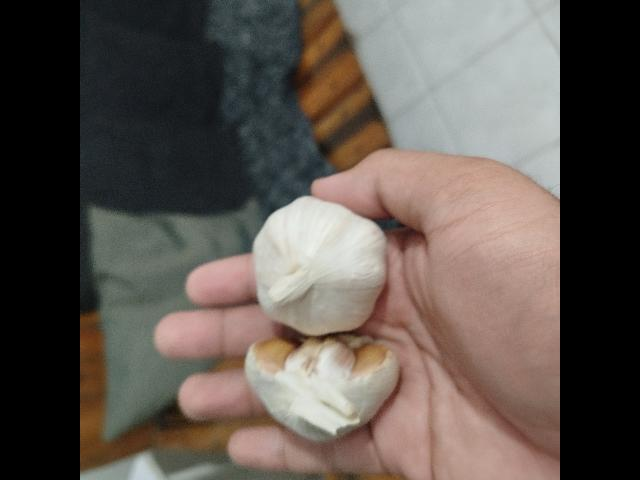garlic: (252, 195, 388, 336), (244, 334, 400, 440)
